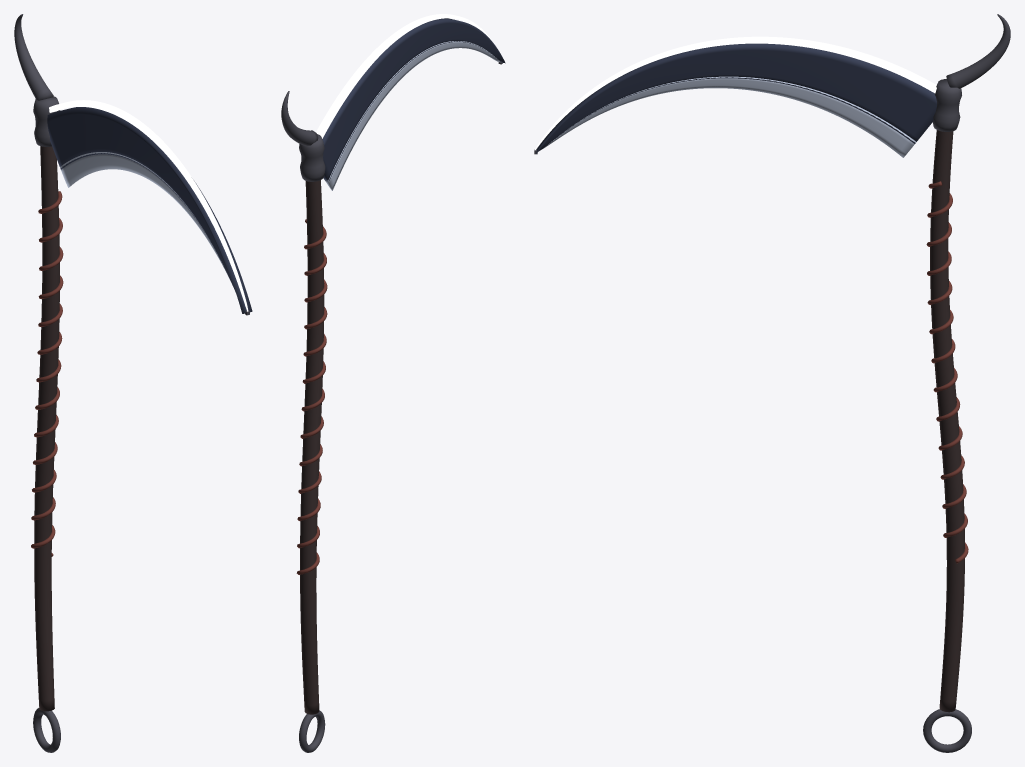
File: ReaperScythe.fbx
The picture shows the model from 3 angles, left to right: view 1: azimuth 30°, elevation 25°; view 2: azimuth 150°, elevation 25°; view 3: azimuth 270°, elevation 25°; orthographic projection. The views are drawn at different scales.
Parts seen in each view (by area): view 1: Shaft, BladeBody, BladeEdge, Wrap, VoidRim, Spur, Collar, Pommel; view 2: Shaft, BladeBody, BladeEdge, Wrap, VoidRim, Collar, Spur, Pommel; view 3: BladeBody, Shaft, BladeEdge, VoidRim, Wrap, Spur, Collar, Pommel.
Boxes of the visible parts, x1,y1,x2,y2 form: Shaft: (34, 146, 59, 711); BladeBody: (47, 107, 252, 313); BladeEdge: (60, 152, 230, 280); Wrap: (31, 191, 63, 556); VoidRim: (49, 100, 248, 311); Spur: (14, 14, 53, 100); Collar: (33, 96, 59, 146); Pommel: (33, 708, 60, 752); Shaft: (300, 180, 324, 714); BladeBody: (322, 18, 505, 181); BladeEdge: (324, 41, 501, 190); Wrap: (296, 219, 327, 574); VoidRim: (316, 14, 493, 138); Collar: (299, 134, 325, 181); Spur: (281, 91, 318, 145); Pommel: (299, 710, 325, 752); BladeBody: (536, 43, 936, 153); Shaft: (930, 130, 964, 712); BladeEdge: (543, 76, 916, 157); VoidRim: (535, 36, 936, 150); Wrap: (926, 181, 968, 563); Spur: (946, 14, 1010, 88); Collar: (932, 79, 961, 131); Pommel: (923, 709, 971, 752).
Bounding box in the file's own units: 23.6 × 683 × 399.
